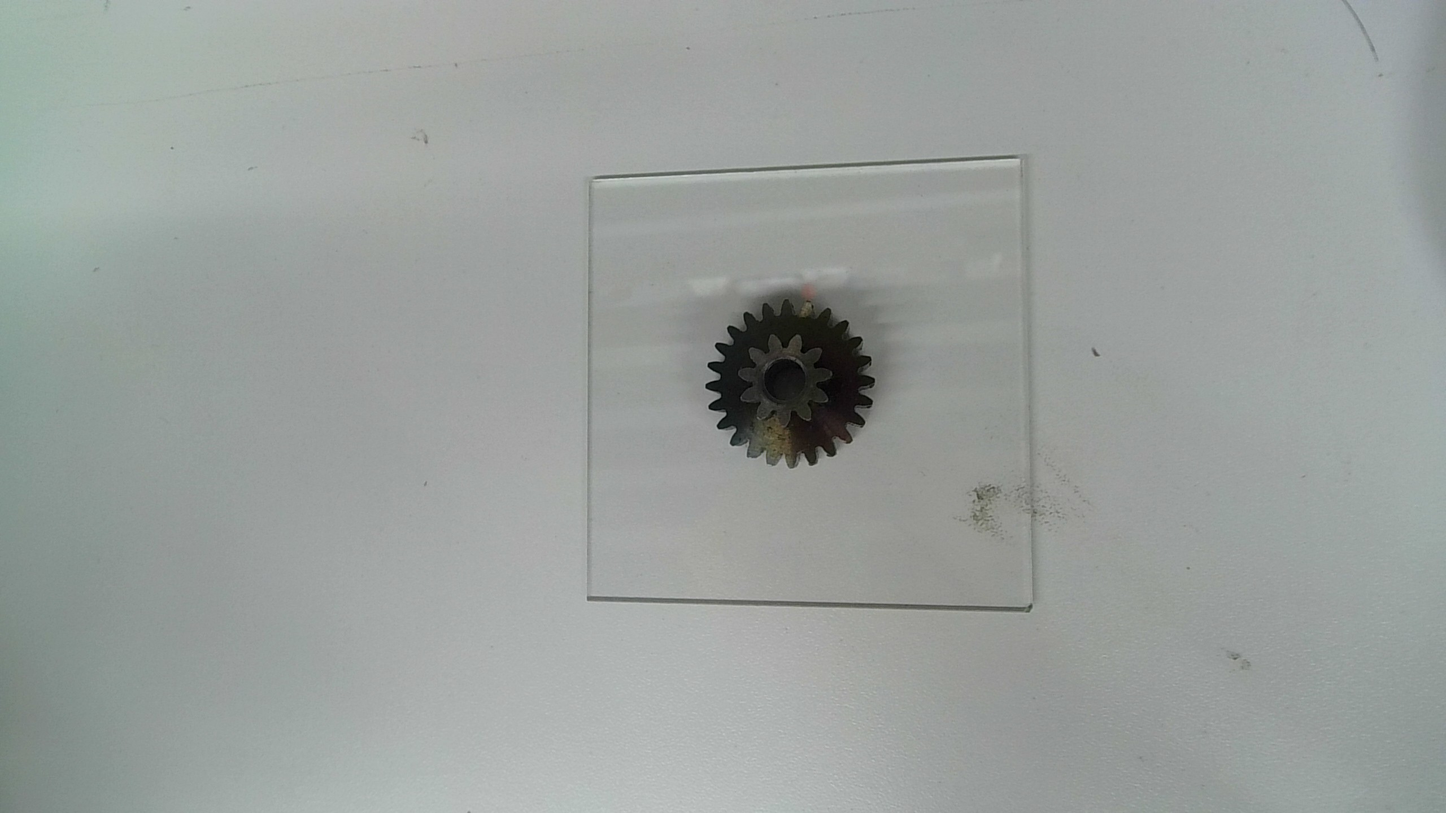gear: (703, 295, 881, 474)
